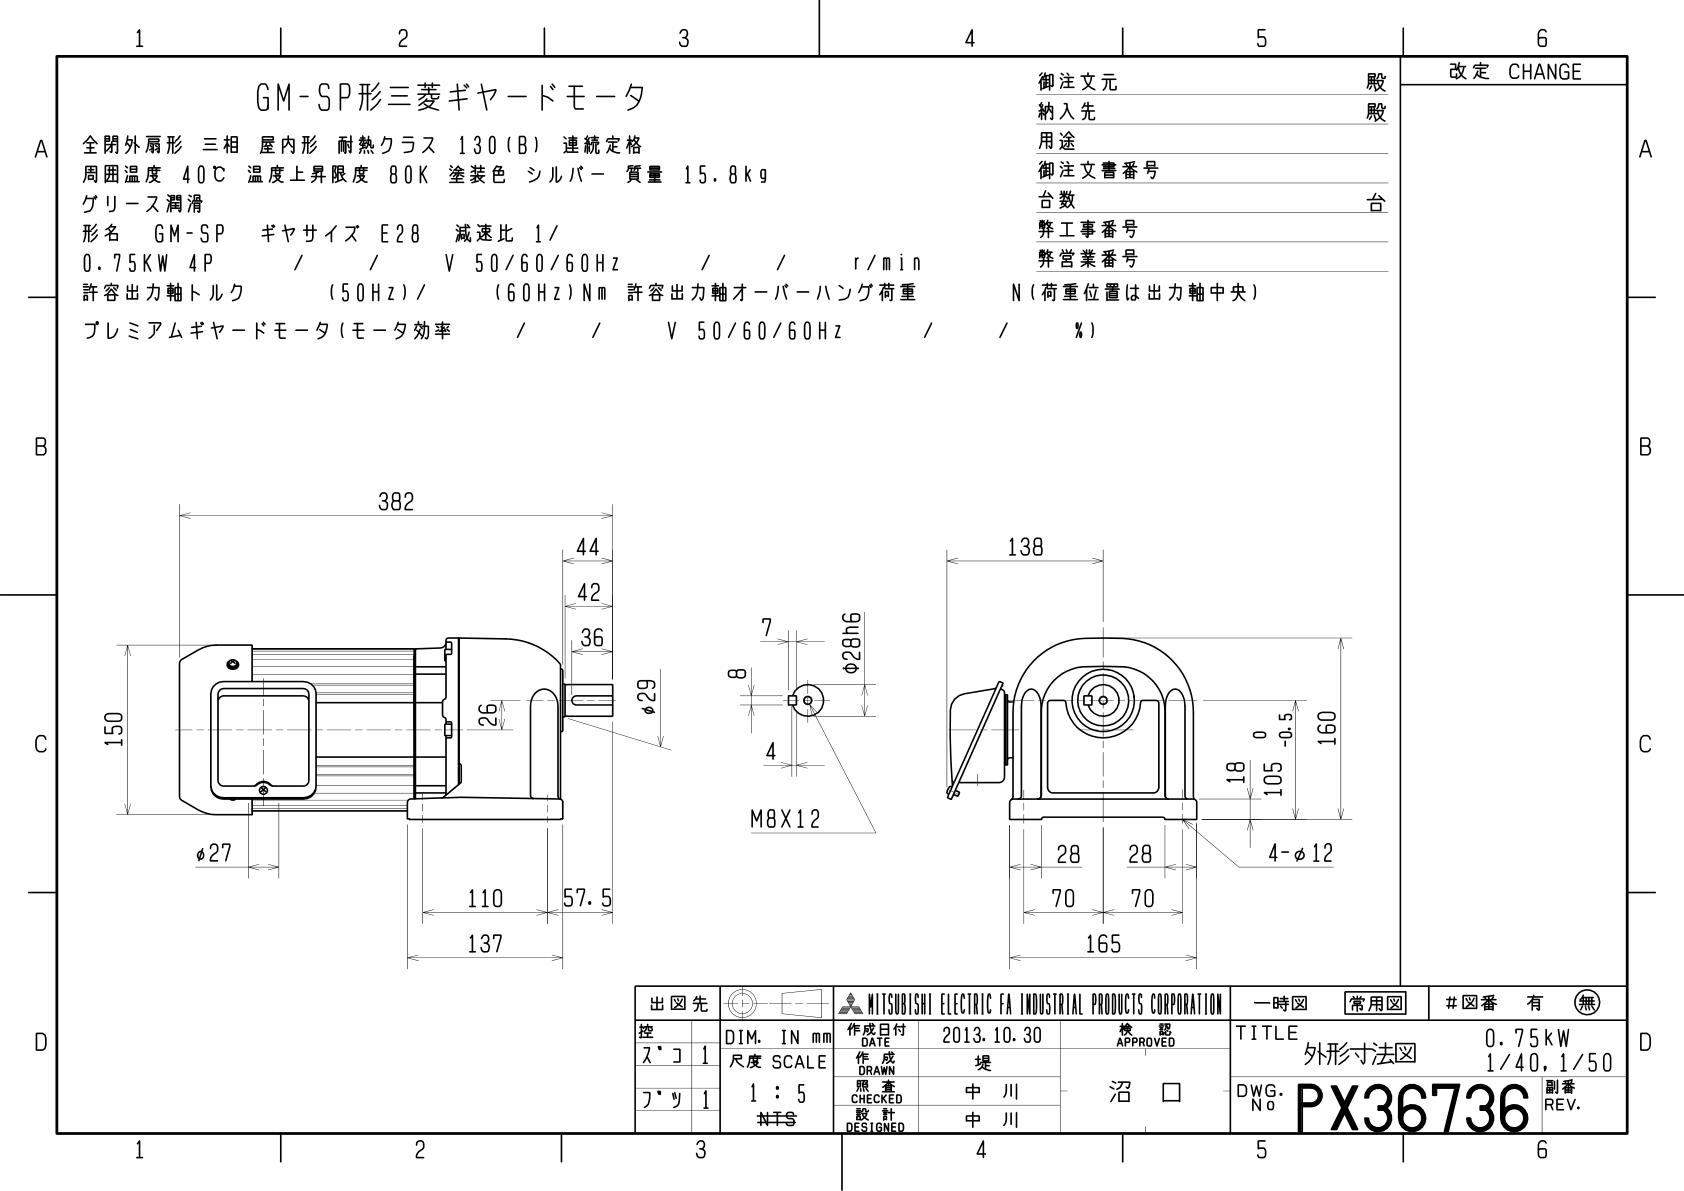GM_SP_屋内_三相_脚: (73, 429, 1389, 974)
